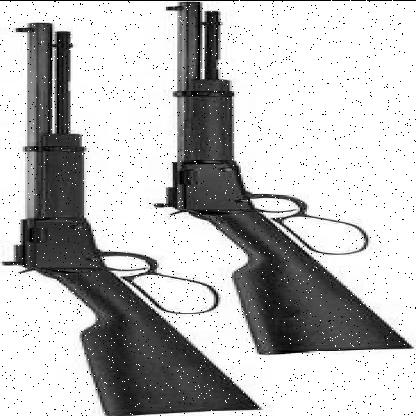rifle: (0, 21, 275, 413), (116, 1, 414, 355)
